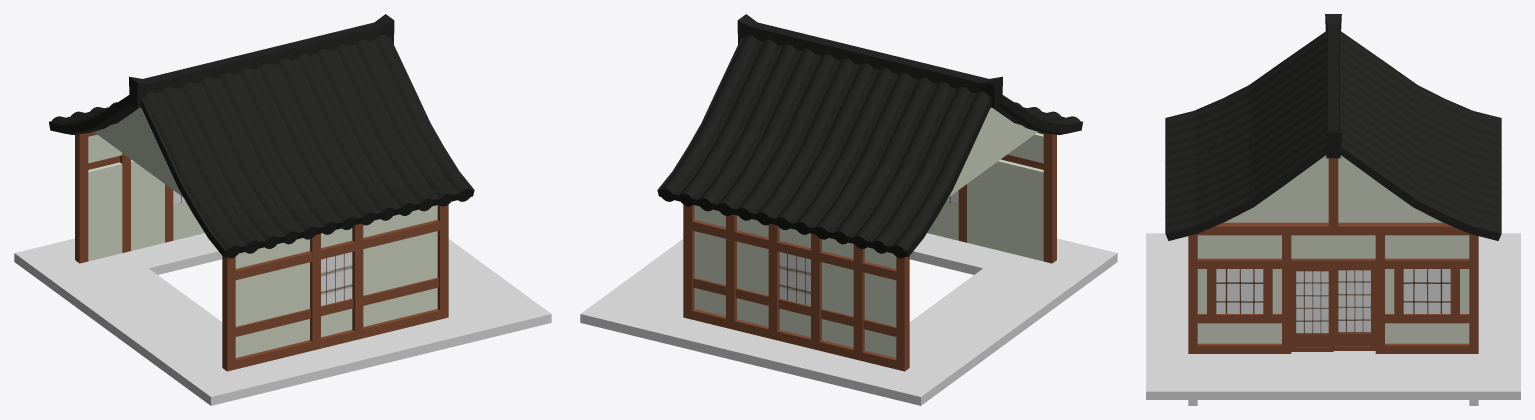
The model's file is Warehouse4.fbx.
The picture shows the model from 3 angles, left to right: view 1: azimuth 30°, elevation 25°; view 2: azimuth 150°, elevation 25°; view 3: azimuth 270°, elevation 25°; orthographic projection. The views are drawn at different scales.
Parts seen in each view (by area): view 1: Plane.006, Cube.059, Cube.112, Cube.111, Cube.102, Cube, Cube.087, Cube.103, Cube.101, Cube.105, Cube.085, Cube.086 (+22 smaller); view 2: Plane.006, Cube.112, Cube.111, Cube.103, Cube.061, Cube.101, Cube.102, Cube.087, Cube.088, Cube.100, Plane, Cube.105 (+16 smaller); view 3: Plane.006, Plane, Cube.035, Cube.047, Cube.040, Cube.064, Cube, Cube.061, Cube.042, Cube.043, Cube.028, Cube.045 (+29 smaller).
Boxes of the visible parts, left/top/right/bottom form: Plane.006: left=49, top=35, right=474, bottom=258; Cube.059: left=363, top=231, right=437, bottom=326; Cube.112: left=235, top=262, right=309, bottom=357; Cube.111: left=129, top=14, right=394, bottom=108; Cube.102: left=63, top=268, right=197, bottom=333; Cube: left=444, top=278, right=551, bottom=343; Cube.087: left=162, top=346, right=296, bottom=405; Cube.103: left=112, top=304, right=222, bottom=369; Cube.101: left=14, top=238, right=147, bottom=297; Cube.105: left=88, top=162, right=122, bottom=261; Cube.085: left=359, top=318, right=466, bottom=364; Cube.086: left=274, top=339, right=381, bottom=384; Plane.006: left=657, top=35, right=1082, bottom=258; Cube.112: left=967, top=159, right=1043, bottom=261; Cube.111: left=737, top=14, right=1002, bottom=108; Cube.103: left=934, top=268, right=1068, bottom=333; Cube.061: left=580, top=278, right=687, bottom=343; Cube.101: left=835, top=346, right=969, bottom=405; Cube.102: left=909, top=304, right=1019, bottom=369; Cube.087: left=984, top=238, right=1117, bottom=297; Cube.088: left=665, top=318, right=772, bottom=364; Cube.100: left=750, top=339, right=857, bottom=384; Plane: left=948, top=107, right=1037, bottom=197; Cube.105: left=864, top=273, right=896, bottom=357; Plane.006: left=1165, top=31, right=1501, bottom=240; Plane: left=1224, top=155, right=1442, bottom=222; Cube.035: left=1197, top=269, right=1281, bottom=343; Cube.047: left=1385, top=269, right=1469, bottom=343; Cube.040: left=1333, top=352, right=1427, bottom=399; Cube.064: left=1239, top=352, right=1333, bottom=399; Cube: left=1146, top=352, right=1239, bottom=399; Cube.061: left=1427, top=352, right=1520, bottom=399; Cube.042: left=1291, top=269, right=1333, bottom=351; Cube.043: left=1333, top=269, right=1375, bottom=350; Cube.028: left=1197, top=235, right=1281, bottom=258; Cube.045: left=1385, top=235, right=1469, bottom=258.
Size of the model in its own units: 800 by 579 by 800.
